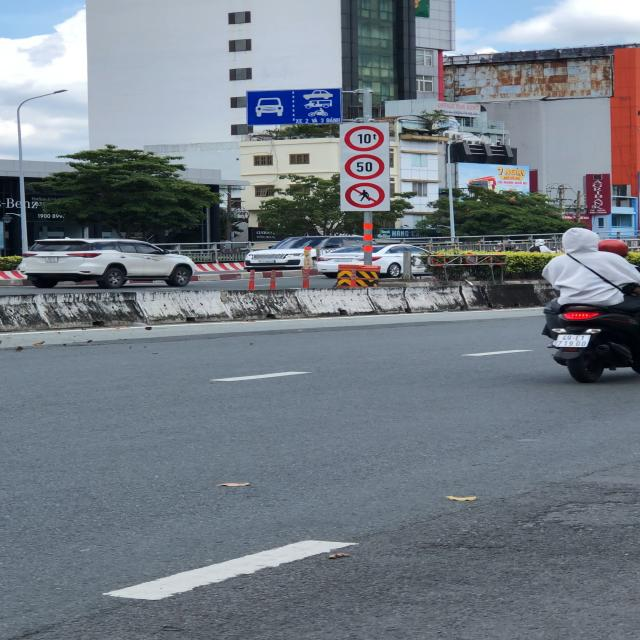Bien bao cam nguoi di bo: (342, 180, 389, 210)
Bien bao toc do toi da cho phep: (341, 152, 390, 180)
